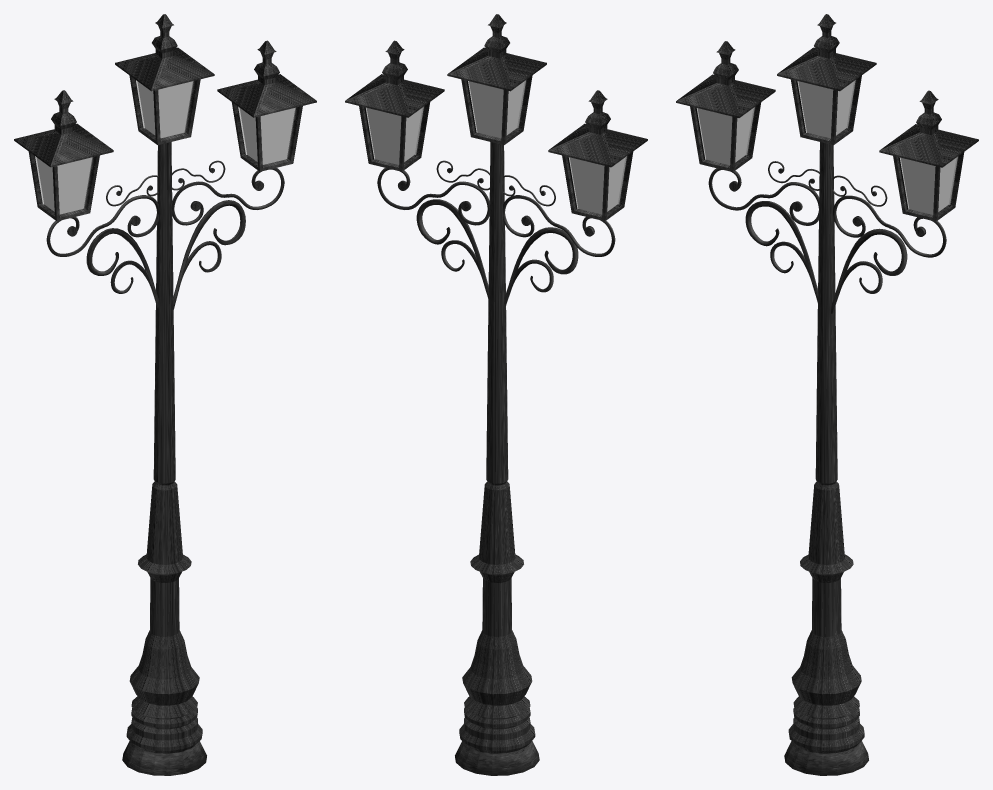
Rendered from Lamp_Deco_3H.fbx.
The picture shows the model from 3 angles, left to right: view 1: azimuth 30°, elevation 25°; view 2: azimuth 150°, elevation 25°; view 3: azimuth 330°, elevation 25°; orthographic projection.
Parts seen in each view (by area): view 1: Lamp_Deco_ThreeHead_LOD0; view 2: Lamp_Deco_ThreeHead_LOD0; view 3: Lamp_Deco_ThreeHead_LOD0.
Boxes of the visible parts, x1,y1,x2,y2 form: Lamp_Deco_ThreeHead_LOD0: (14,14,316,775); Lamp_Deco_ThreeHead_LOD0: (345,14,647,775); Lamp_Deco_ThreeHead_LOD0: (676,14,978,775).
Size of what is drawn, in the model's own units: 651 by 1737 by 182.
